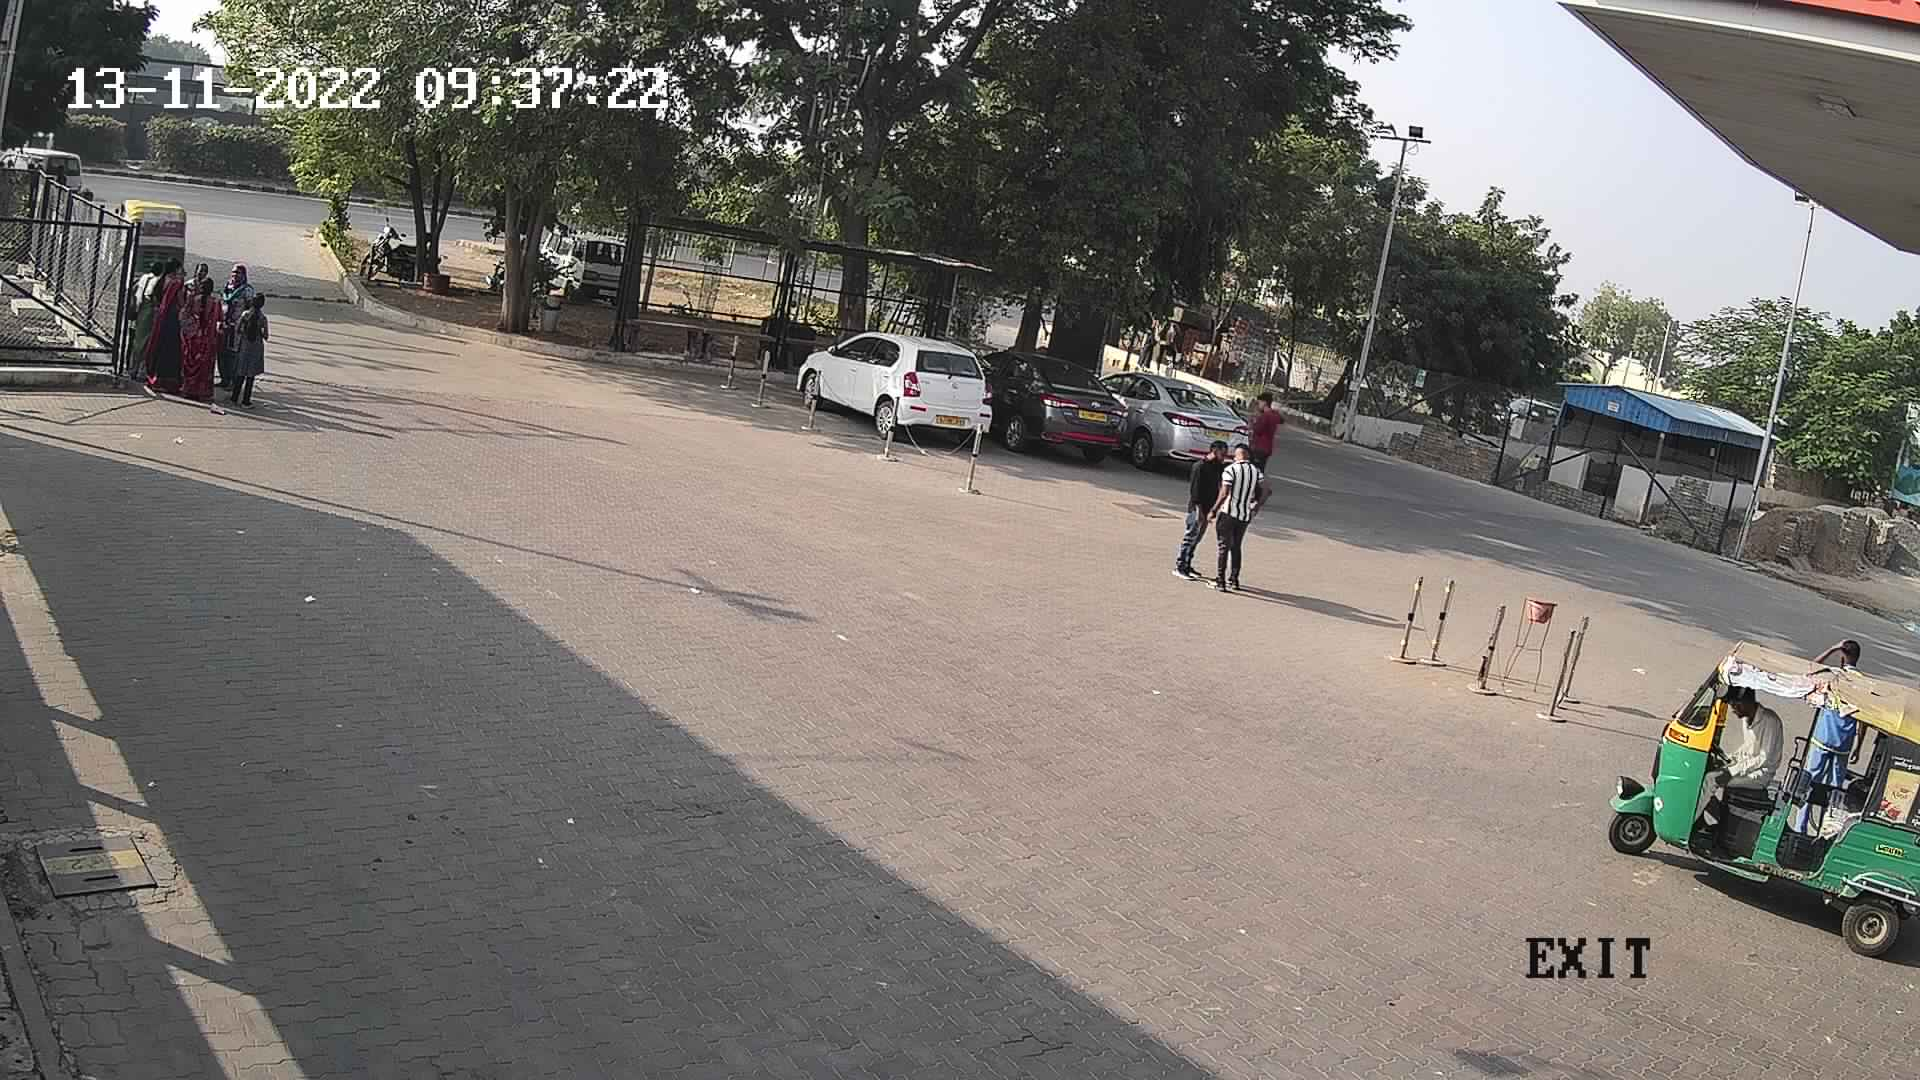Auto: (1598, 622, 1919, 955), (98, 194, 194, 284)
Bike: (353, 212, 426, 299)
Car: (789, 323, 998, 460), (971, 339, 1134, 471), (1089, 367, 1254, 477), (537, 214, 632, 311), (0, 132, 91, 214)
Others: (1789, 632, 1873, 804)
